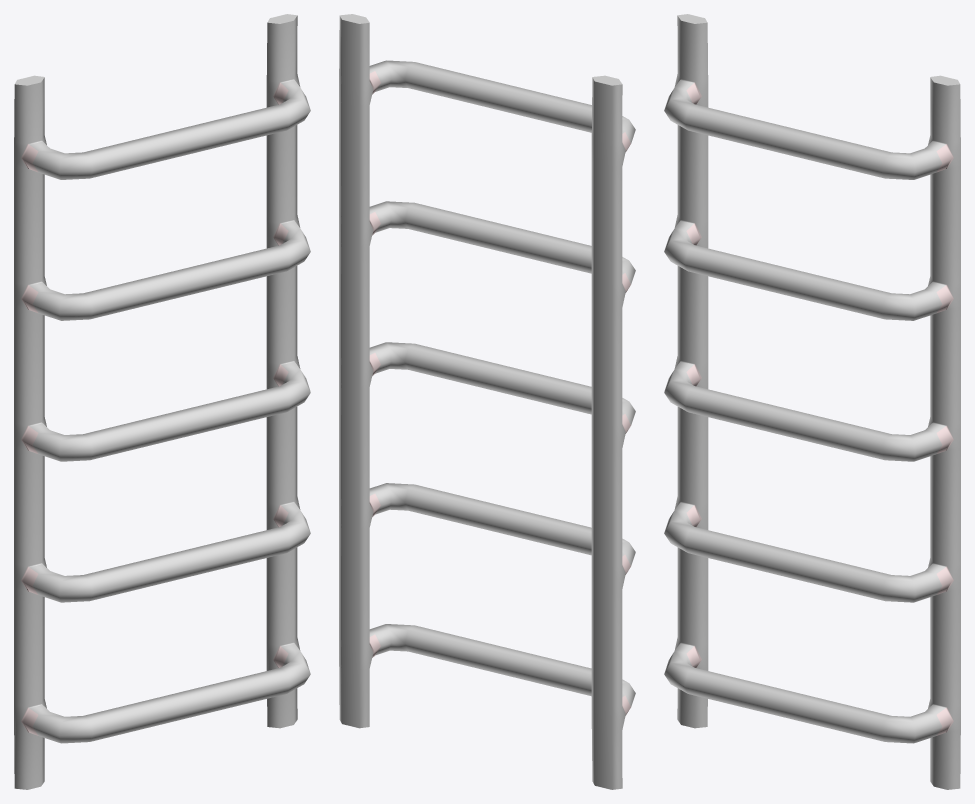
File: Ladder_1_001.fbx
The picture shows the model from 3 angles, left to right: view 1: azimuth 30°, elevation 25°; view 2: azimuth 150°, elevation 25°; view 3: azimuth 330°, elevation 25°; orthographic projection.
Visible parts, largest first — view 1: Ladder_1_001; view 2: Ladder_1_001; view 3: Ladder_1_001.
Part boxes in pixels (left/top/right/bottom): Ladder_1_001: left=14, top=14, right=310, bottom=789; Ladder_1_001: left=339, top=14, right=635, bottom=789; Ladder_1_001: left=664, top=14, right=960, bottom=789.
Size of the model in its own units: 84.13 by 20.57 by 200.
